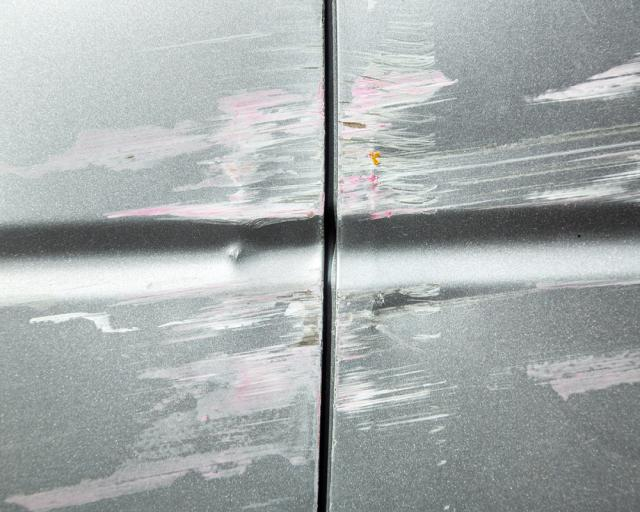scratch: (0, 0, 323, 512), (331, 0, 640, 464)
